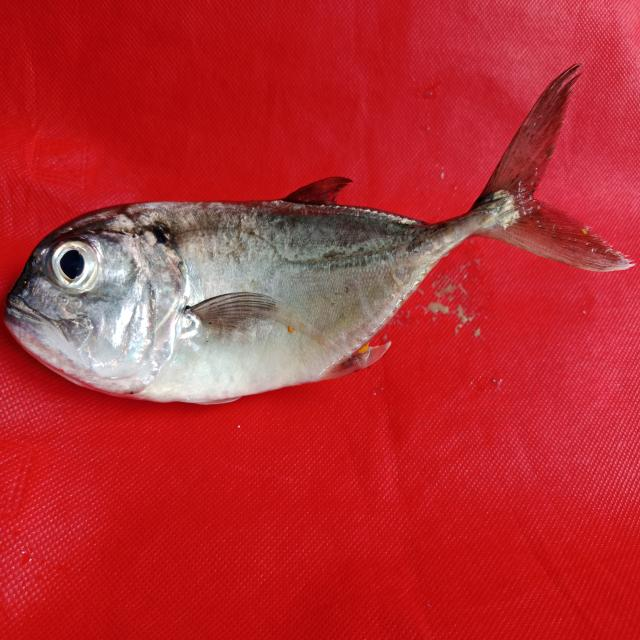ikan: (10, 54, 629, 422)
